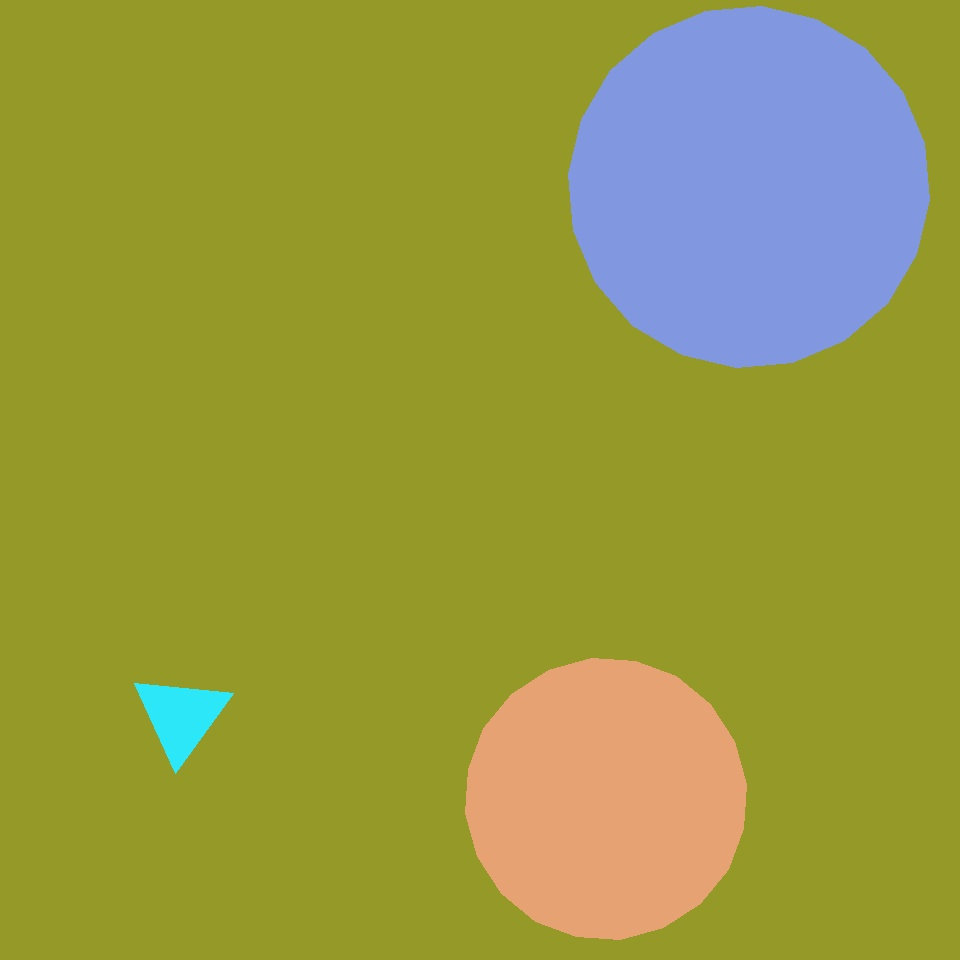circle: (132, 672, 230, 762)
triangle: (568, 7, 929, 368), (466, 658, 746, 940)
